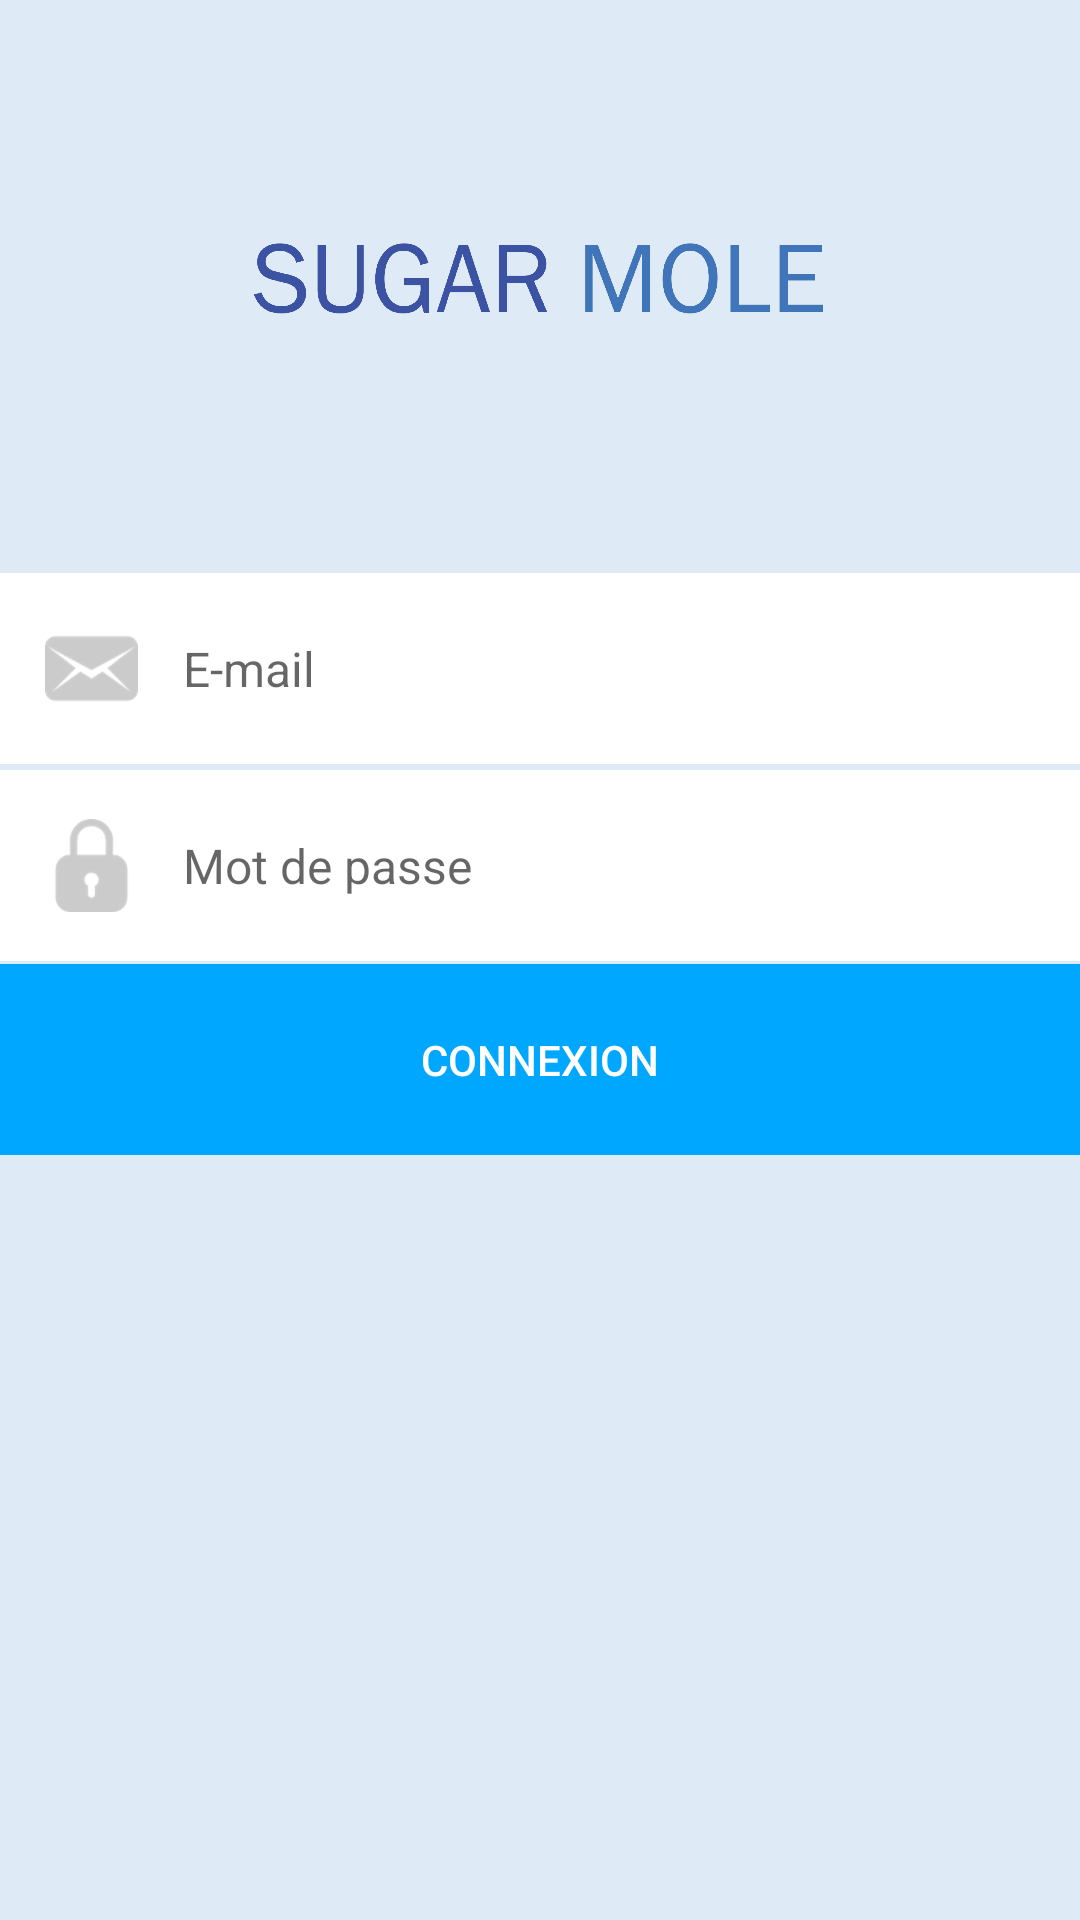

Where icons sit on this 1080 x 1920 app screen, as (x1, y1, x2, y2):
lock: (56, 819, 127, 912)
post: (45, 636, 138, 701)
